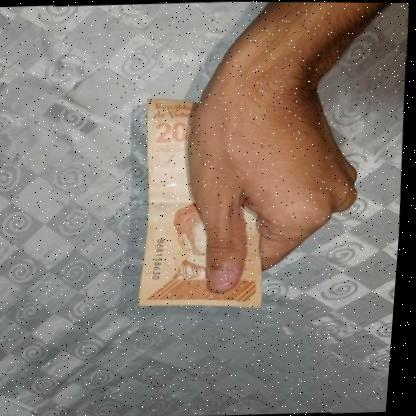vef_front: (135, 93, 278, 310)
